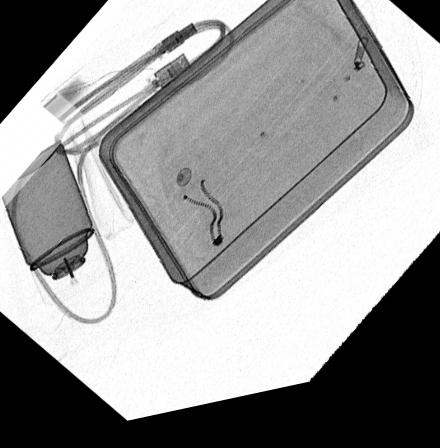Sprayer: (1, 142, 108, 307)
